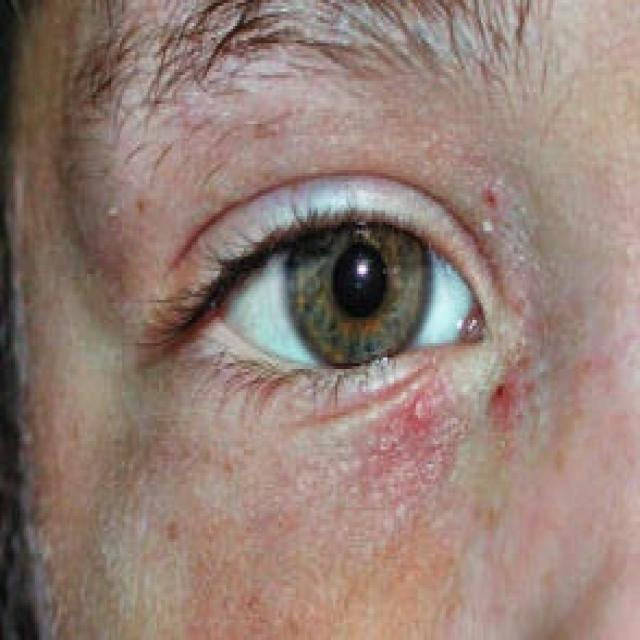Eczema: (246, 153, 563, 541)
